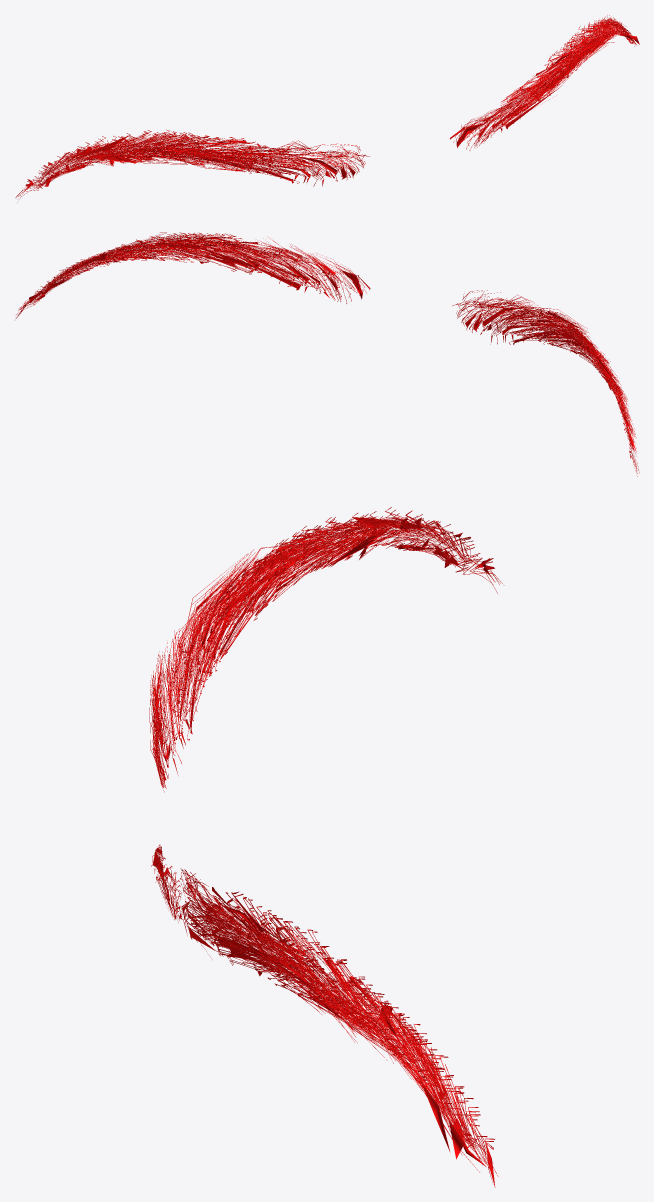
File: mindfront_eyebrows_09_M.glb
3 views of the same model, one above another, from view 1: azimuth 30°, elevation 25°; view 2: azimuth 150°, elevation 25°; view 3: azimuth 270°, elevation 25° (orthographic). The views are drawn at different scales.
Bounding box in the file's own units: 0.1217 × 0.0159 × 0.0302.
1 material, 1 textured.
